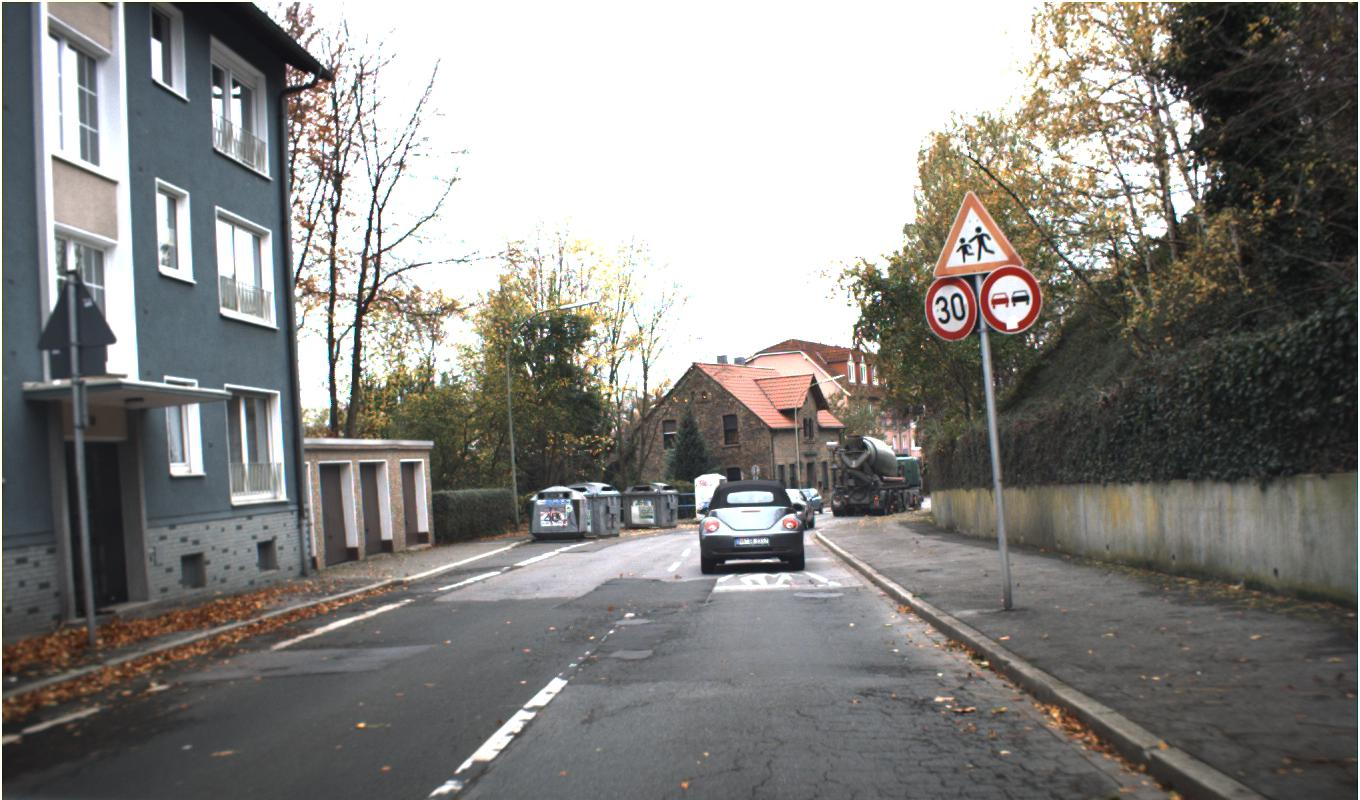danger: (932, 188, 1024, 278)
prohibitory: (977, 263, 1042, 333), (923, 276, 977, 341)
